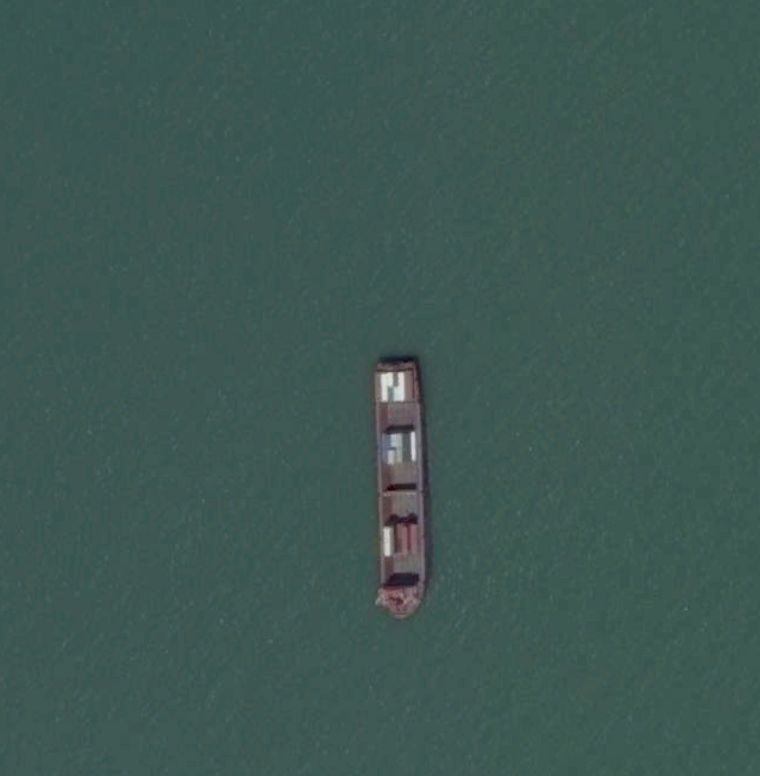boat: (369, 354, 433, 624)
